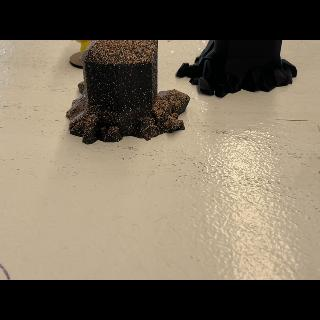teletubby: (70, 40, 93, 55)
